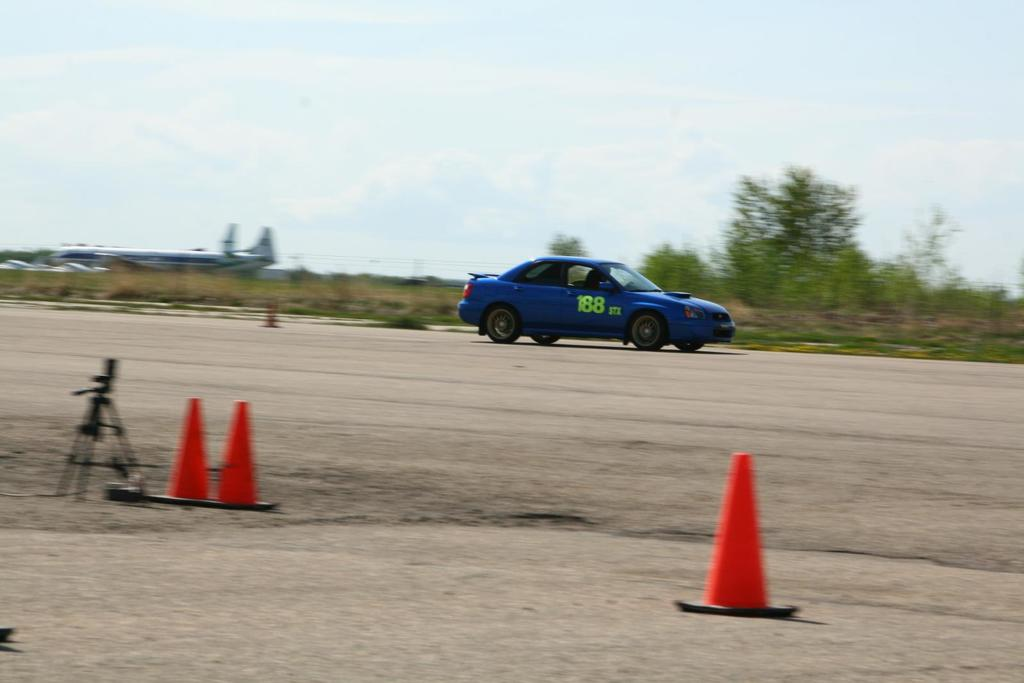Car: (453, 246, 723, 358)
